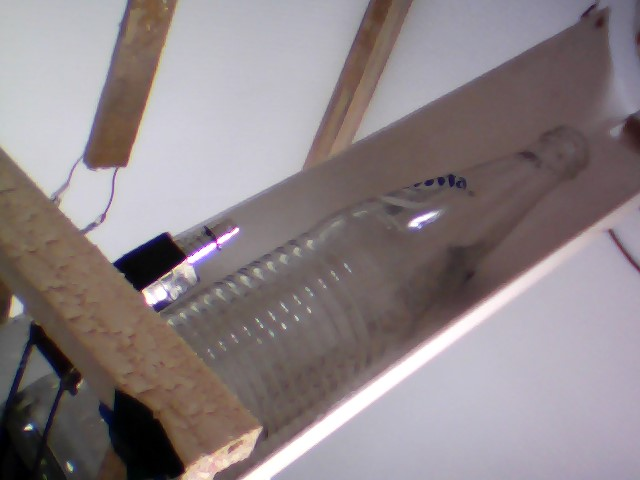vidrio: (186, 123, 599, 445)
